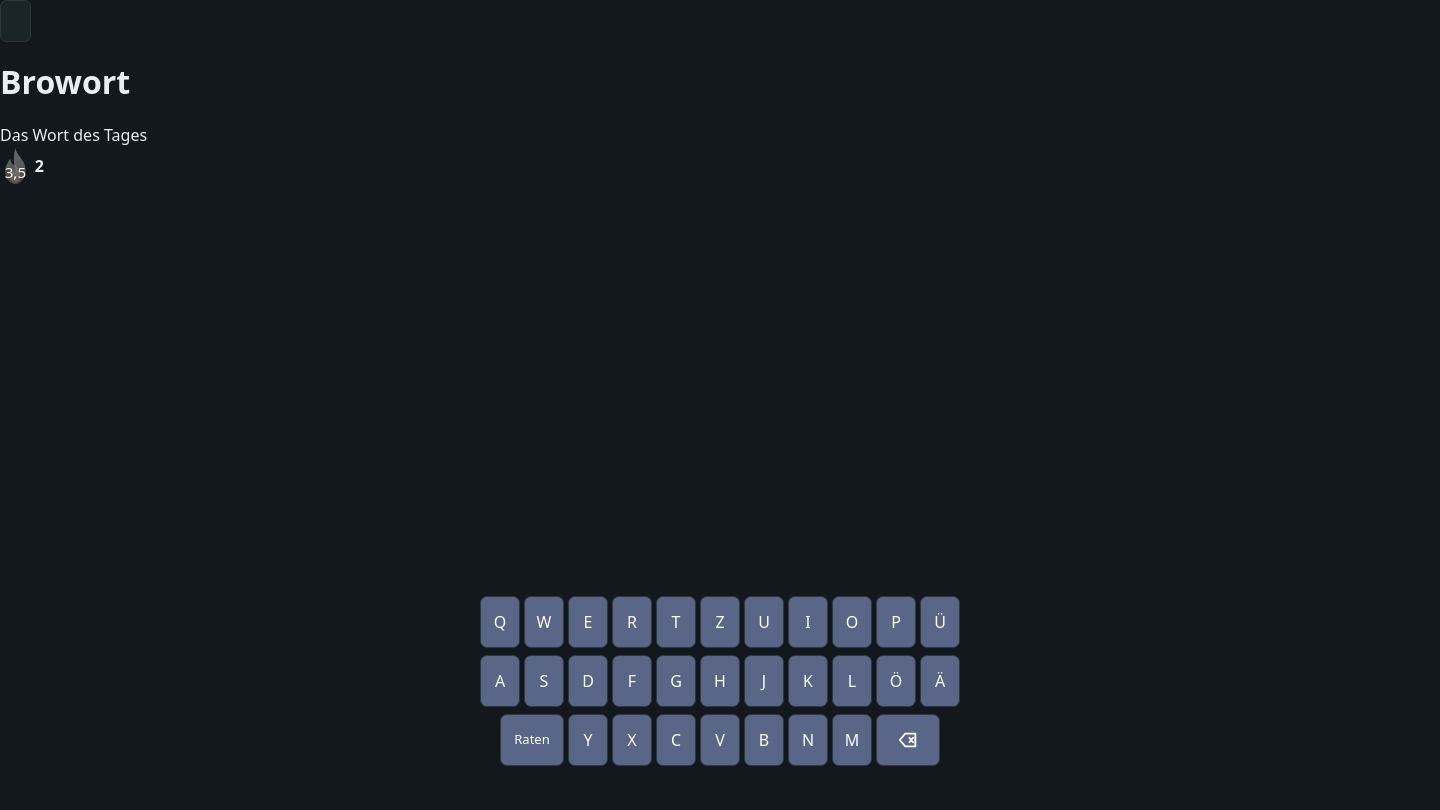
Browort › zeigt am Ende Lösung, Belohnung und Verteilung
Check: the element named "Serie 2" is shown, box [0, 147, 44, 186]
Step 1. Press the mouse on the button "K" → (808, 681), box [788, 655, 828, 707]
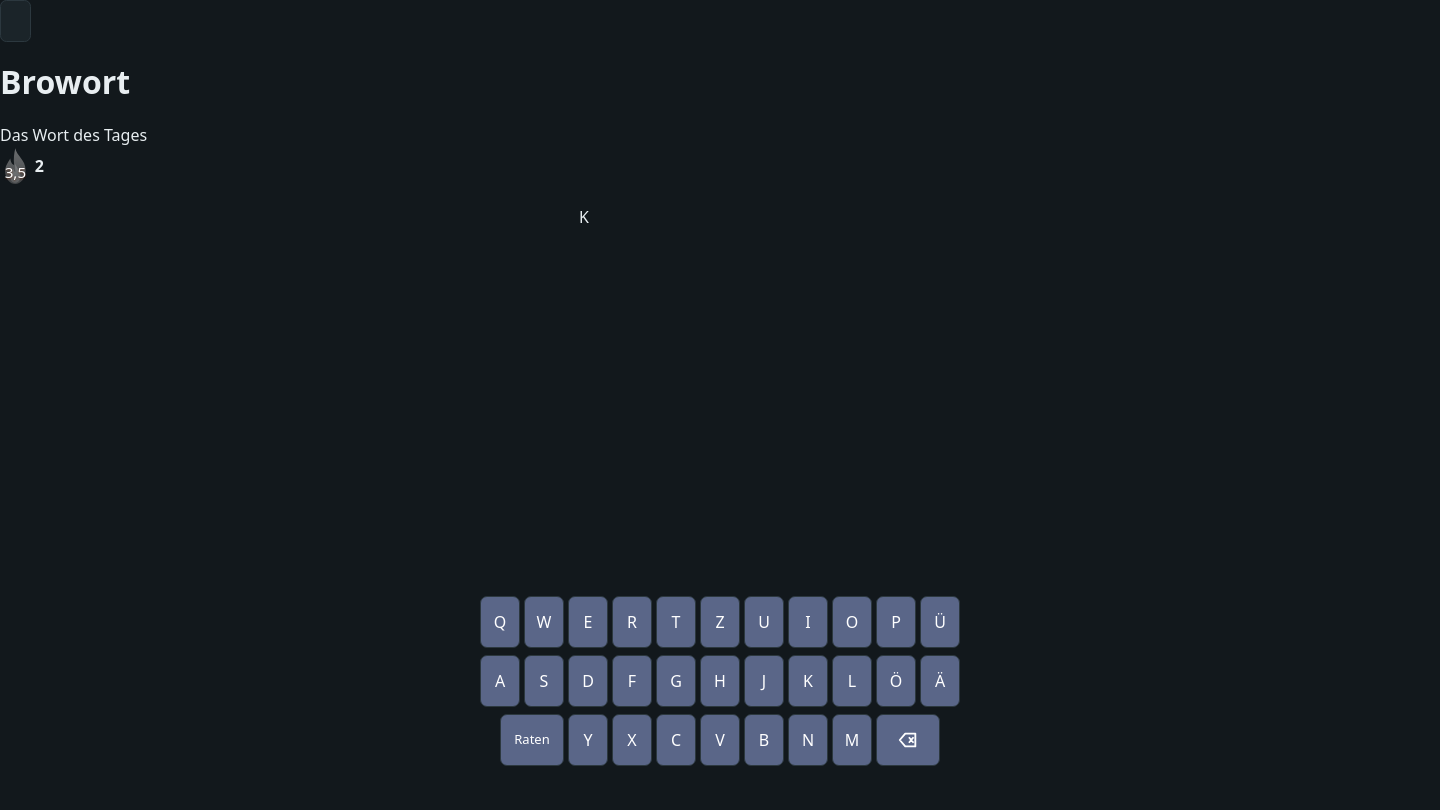
Step 2. Press the mouse on the button "A" → (500, 681), box [480, 655, 520, 707]
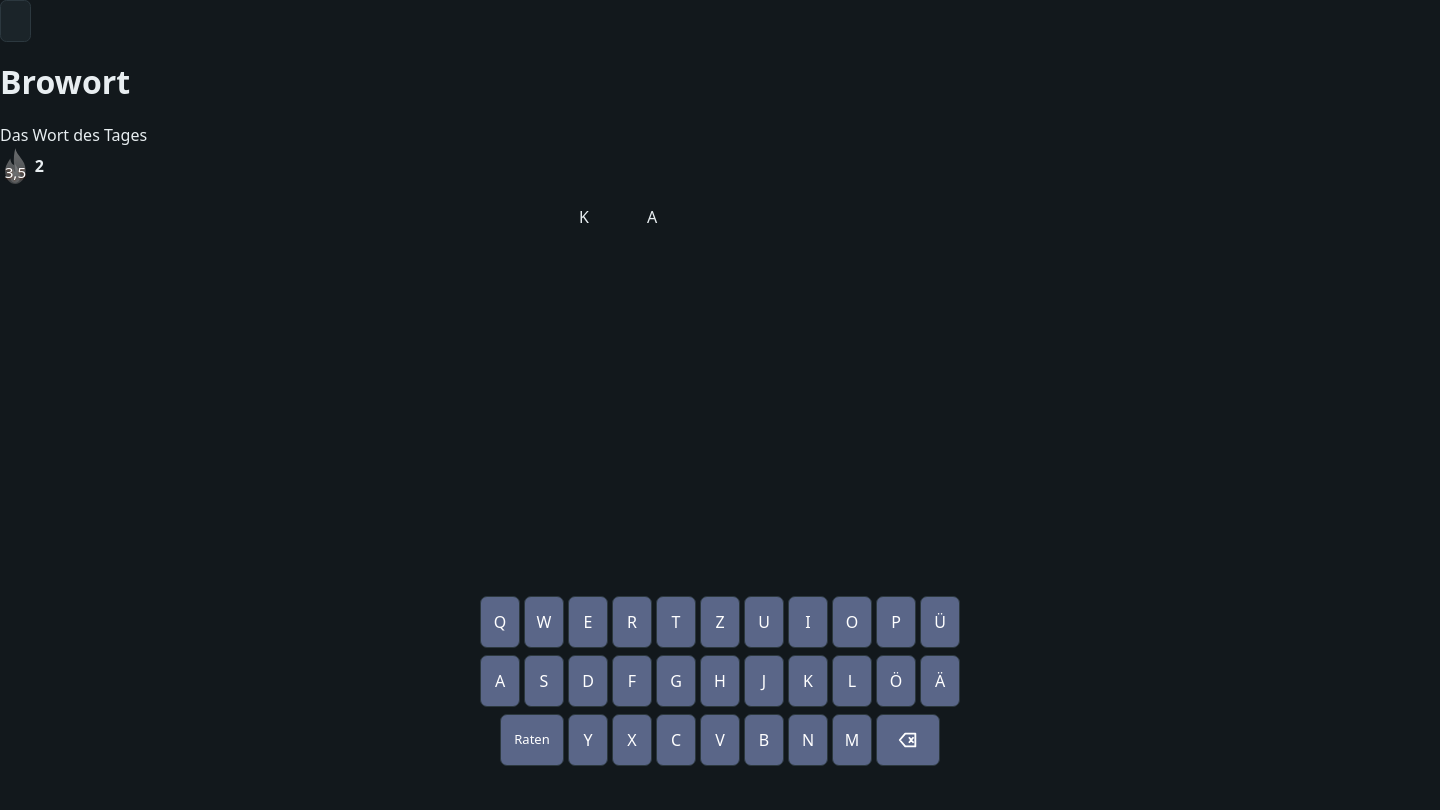
Step 3. Press the mouse on the button "T" → (676, 622), box [656, 596, 696, 648]
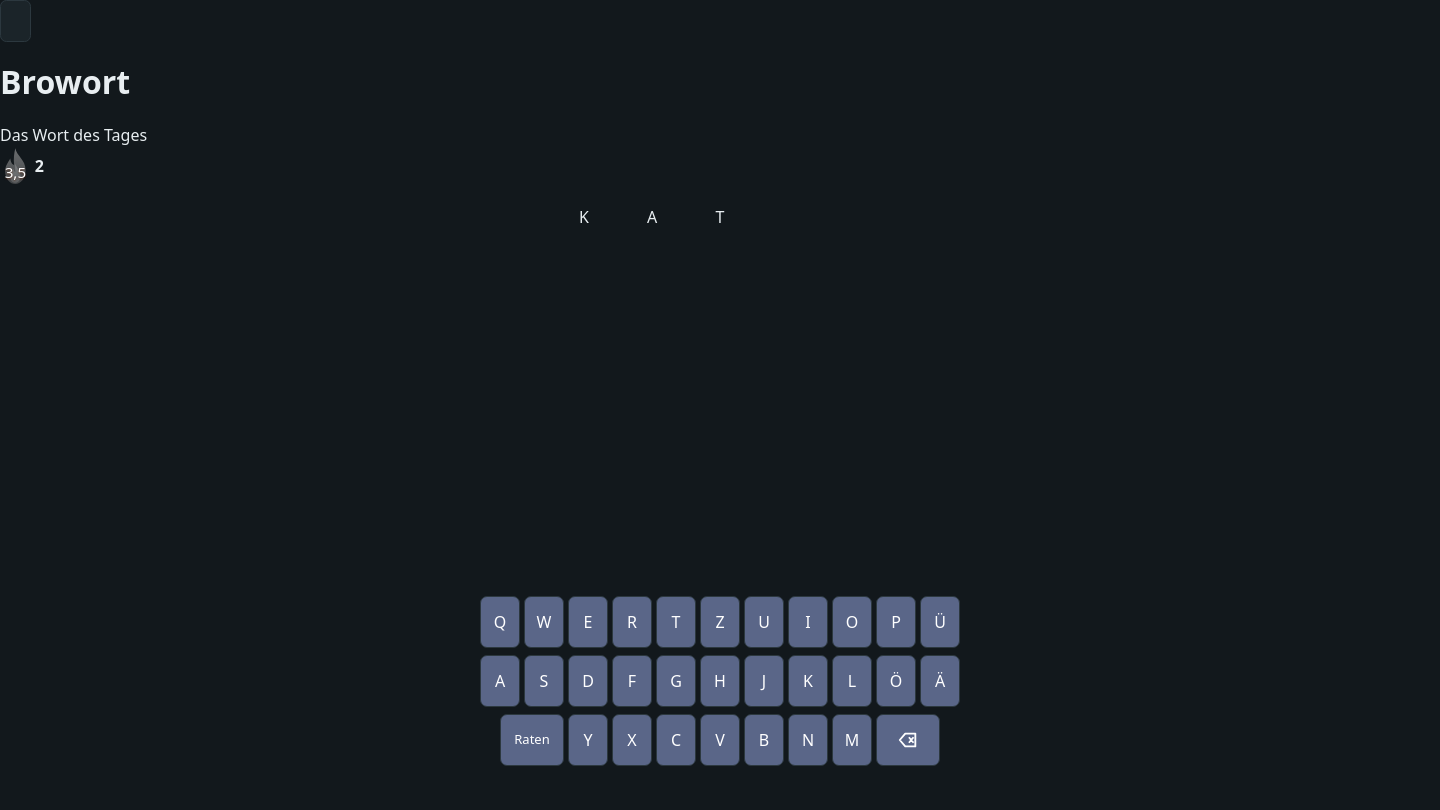
Step 4. Press the mouse on the button "Z" → (720, 622), box [700, 596, 740, 648]
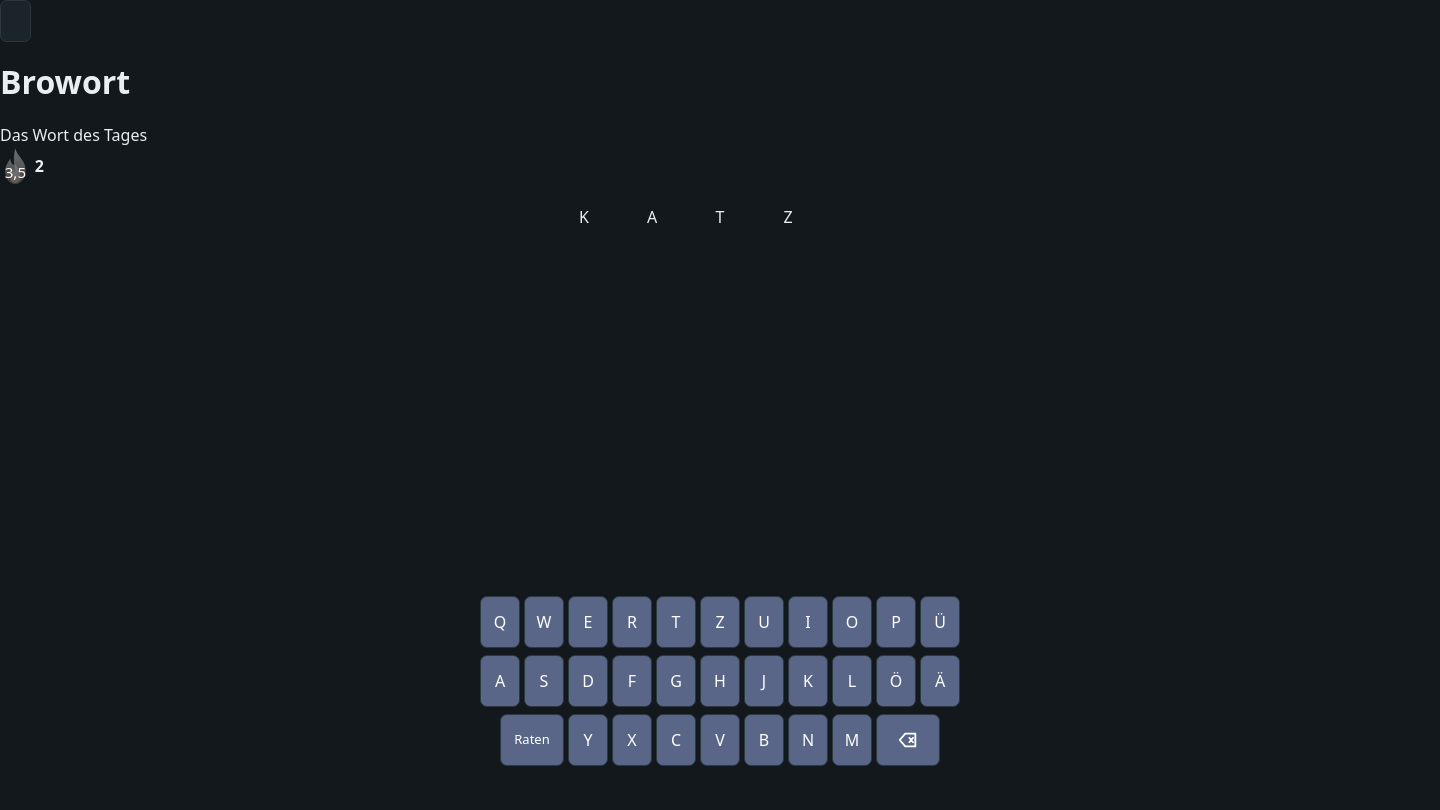
Step 5. Press the mouse on the button "E" → (588, 622), box [568, 596, 608, 648]
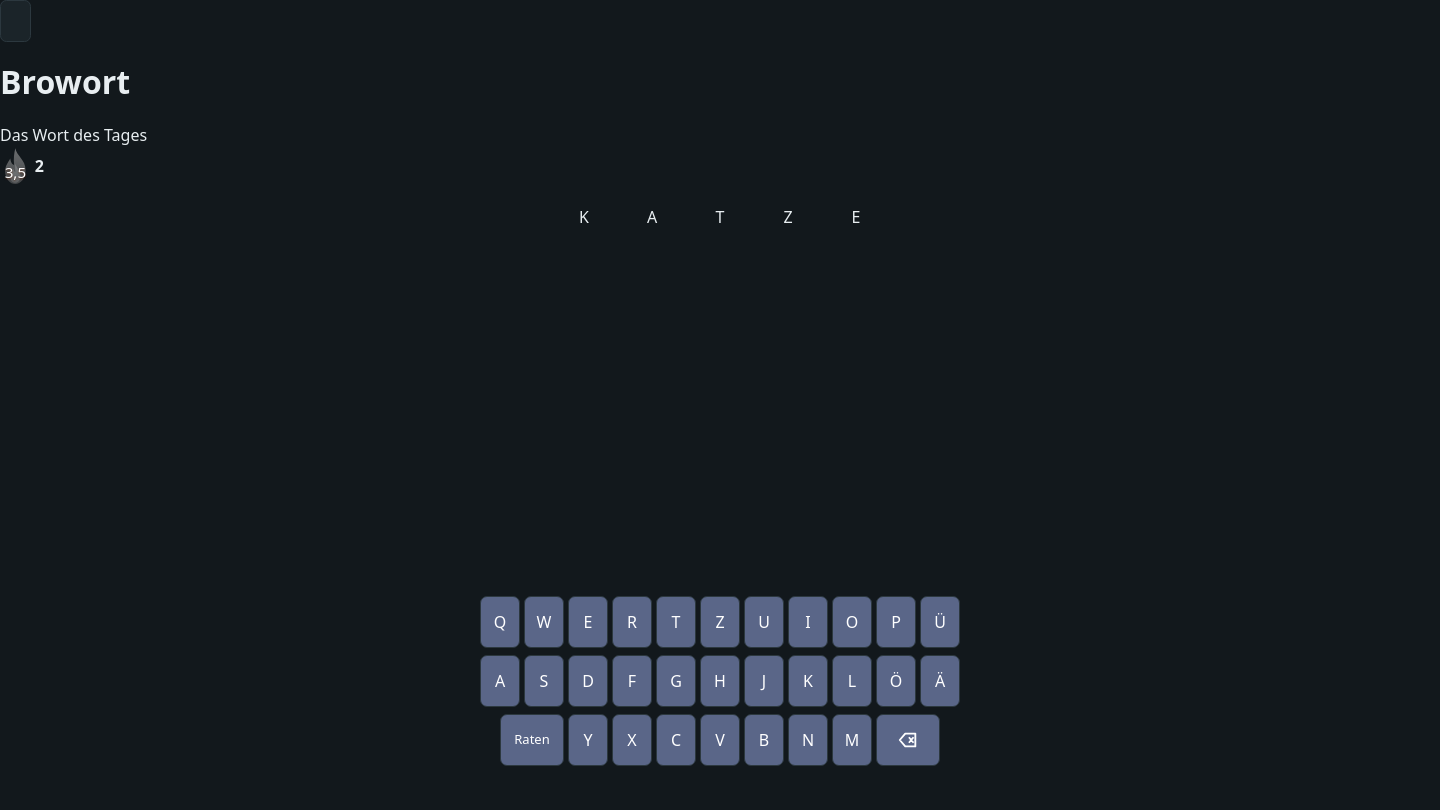
Step 6. Press the mouse on the button "Raten" → (532, 740), box [500, 714, 564, 766]
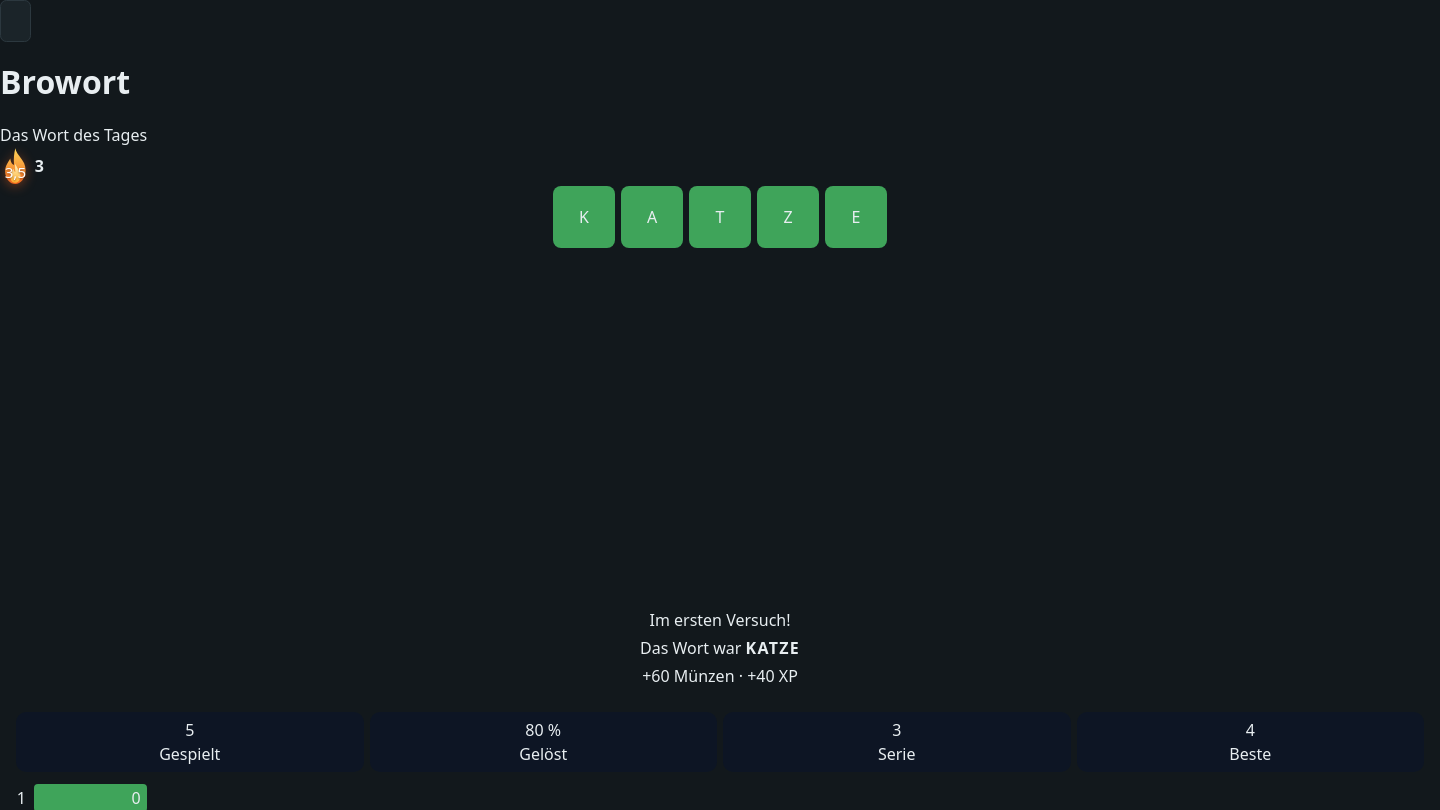
Check: the text "Im ersten Versuch!" is shown, box [650, 608, 790, 632]
Check: the text "KATZE" is shown, box [746, 637, 800, 659]
Check: the text "+60 Münzen · +40 XP" is shown, box [642, 664, 798, 688]
